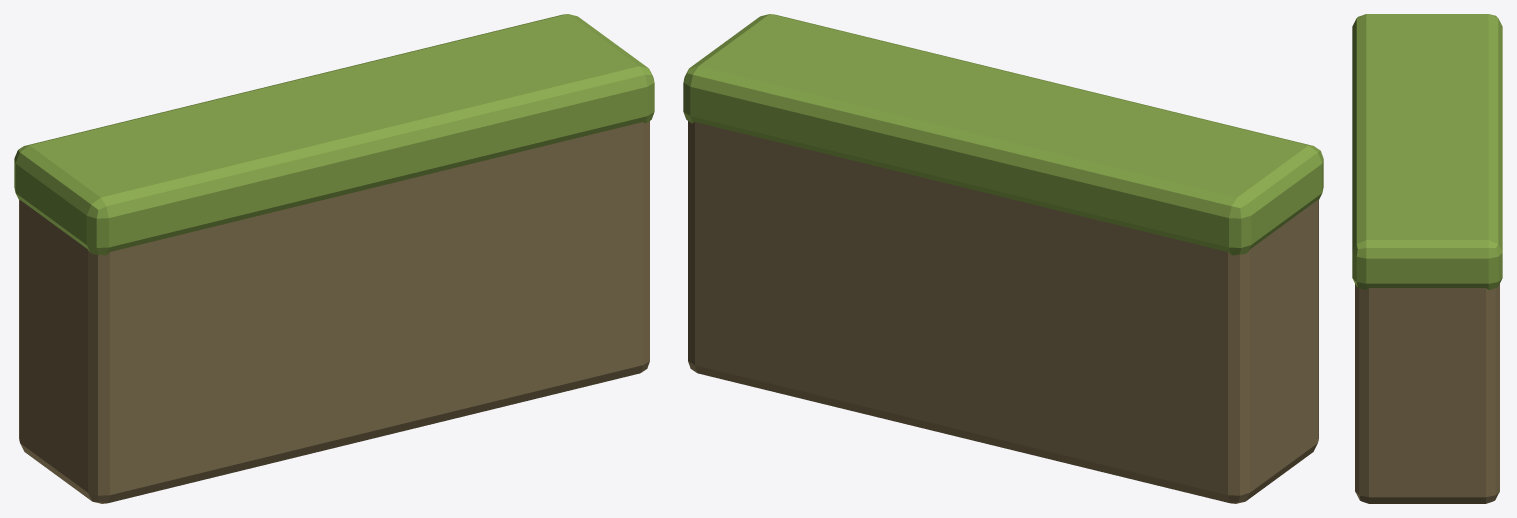
File: SM_Platform_2m_Half_01_A.fbx
The picture shows the model from 3 angles, left to right: view 1: azimuth 30°, elevation 25°; view 2: azimuth 150°, elevation 25°; view 3: azimuth 270°, elevation 25°; orthographic projection. The views are drawn at different scales.
Parts seen in each view (by area): view 1: polySurface85; view 2: polySurface85; view 3: polySurface85.
Part boxes in pixels (x1,y1,x2,y2): polySurface85: (14, 14, 654, 503); polySurface85: (683, 14, 1323, 503); polySurface85: (1352, 14, 1502, 503).
Size of the model in its own units: 202 by 105 by 54.
